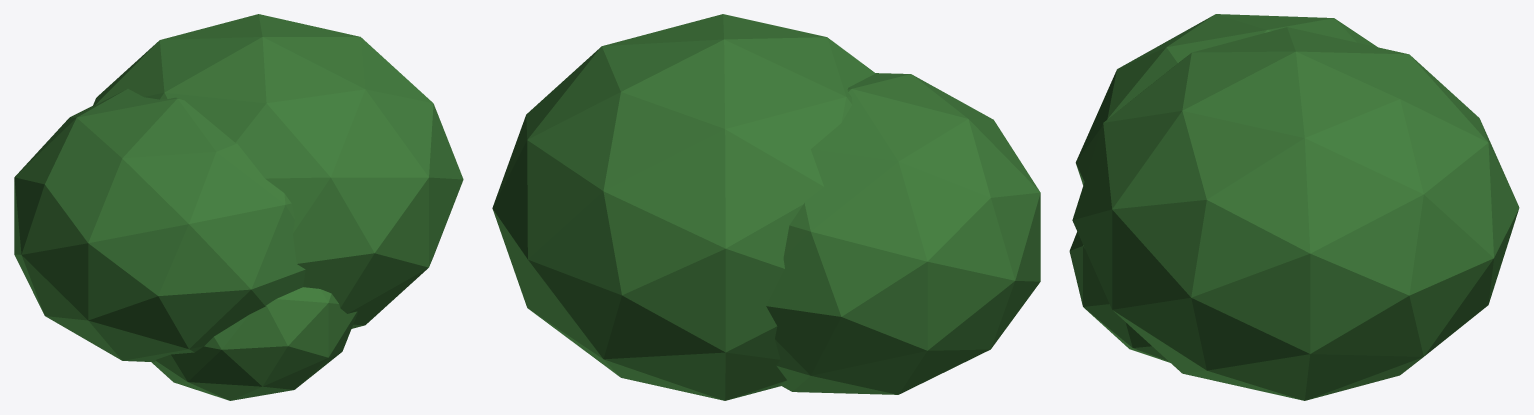
The model's file is bush_01.glb.
The picture shows the model from 3 angles, left to right: view 1: azimuth 30°, elevation 25°; view 2: azimuth 150°, elevation 25°; view 3: azimuth 270°, elevation 25°; orthographic projection. The views are drawn at different scales.
Visible parts, largest first — view 1: bush_01; view 2: bush_01; view 3: bush_01.
Part boxes in pixels (x1,y1,x2,y2): bush_01: (14, 14, 463, 400); bush_01: (492, 14, 1040, 400); bush_01: (1069, 14, 1519, 400).
Size of the model in its own units: 0.9139 by 0.6461 by 0.7756.
